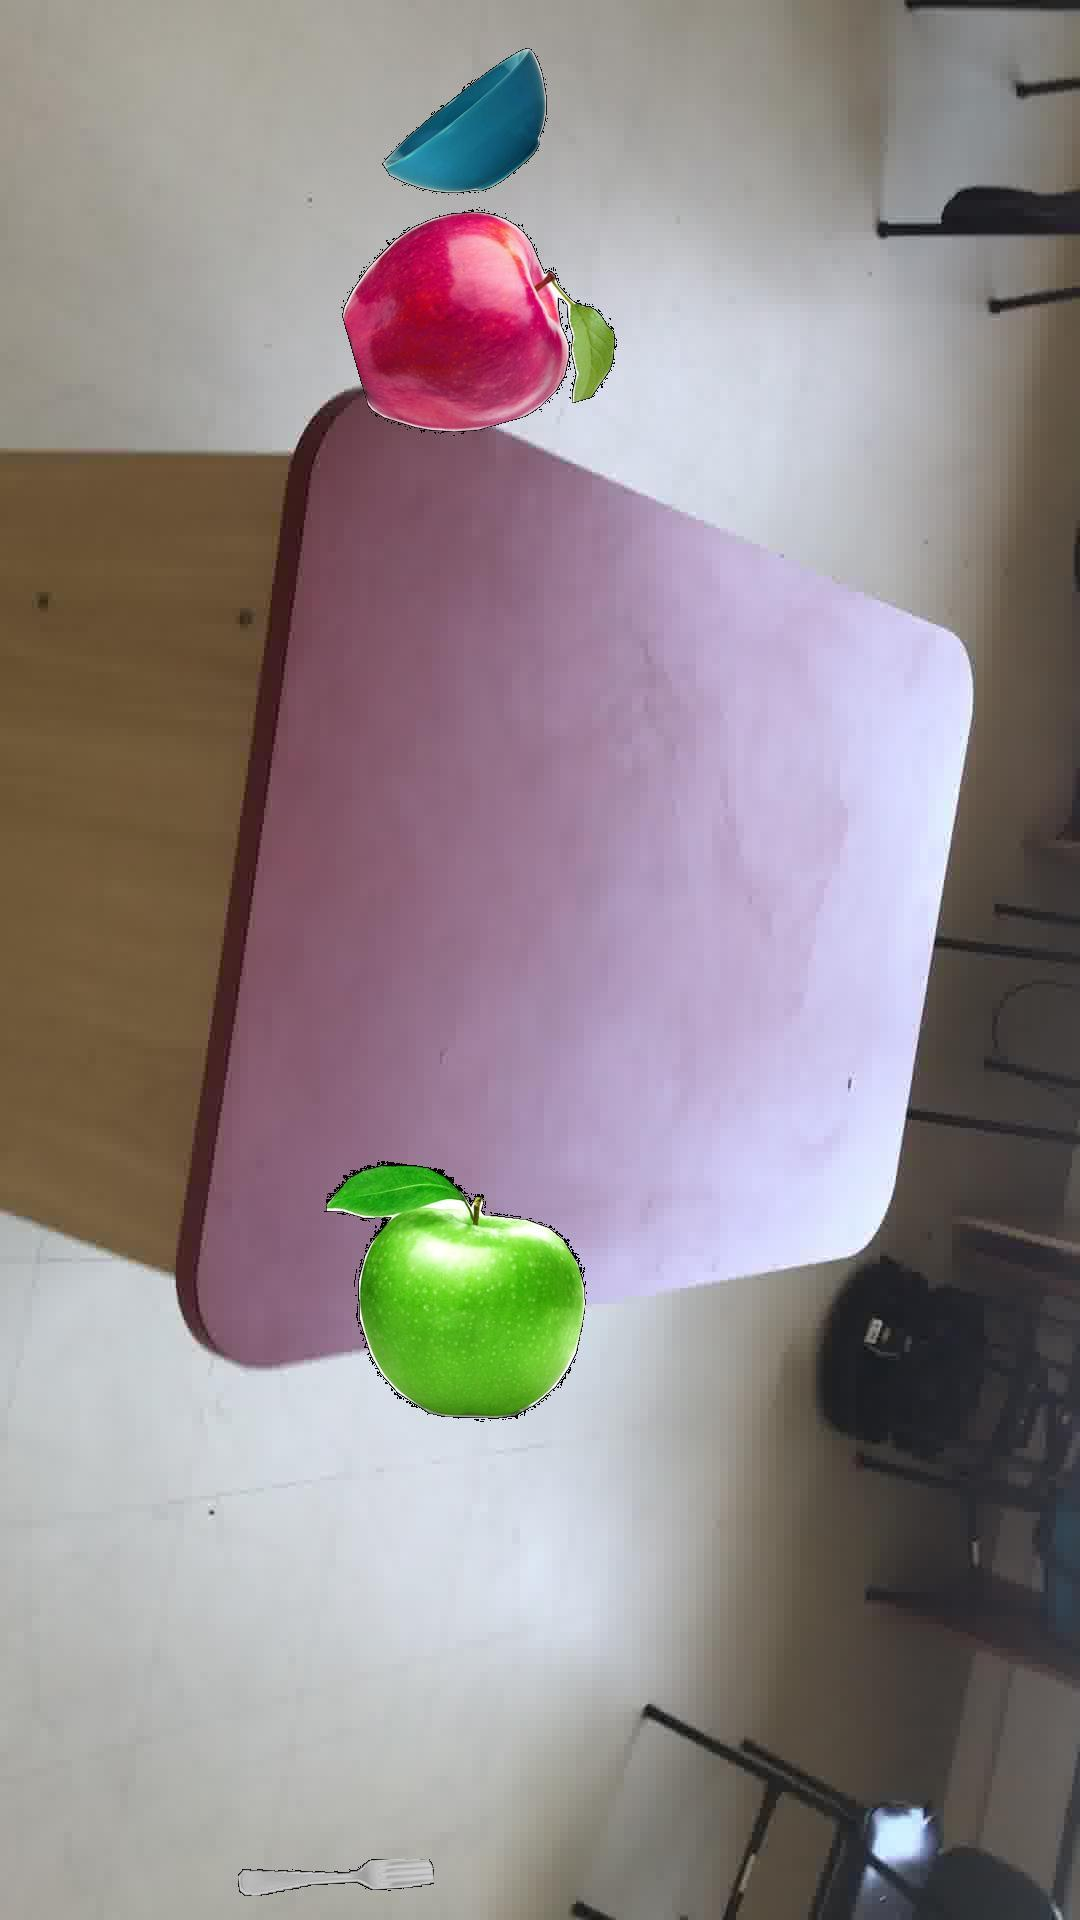apple: (340, 207, 616, 433)
bowl: (381, 46, 546, 193)
fork: (236, 1858, 433, 1895)
green apple: (323, 1159, 584, 1418)
